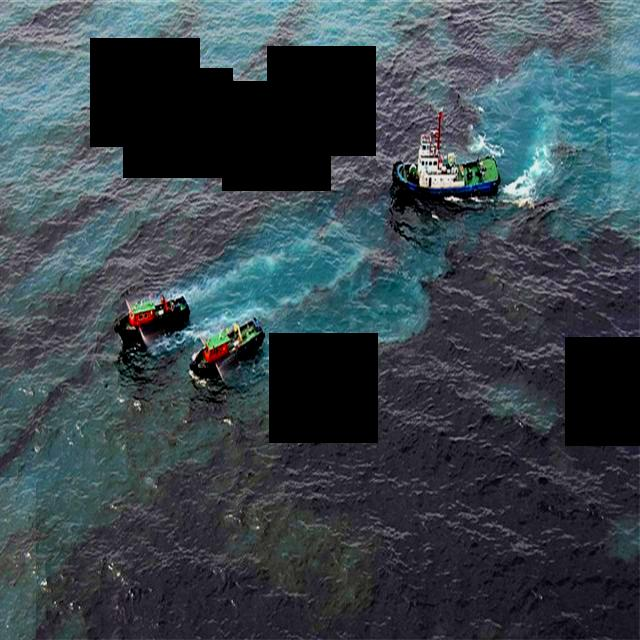oil spill: (0, 2, 611, 477), (37, 211, 639, 639)
